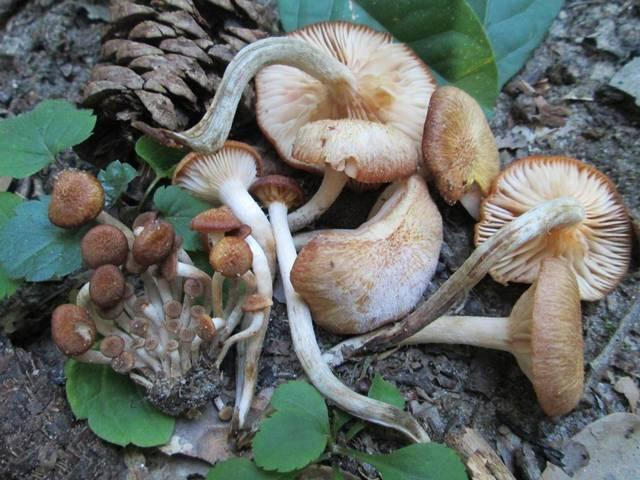Edible Mushroom: (184, 20, 496, 357), (324, 153, 634, 418), (44, 170, 237, 364)
